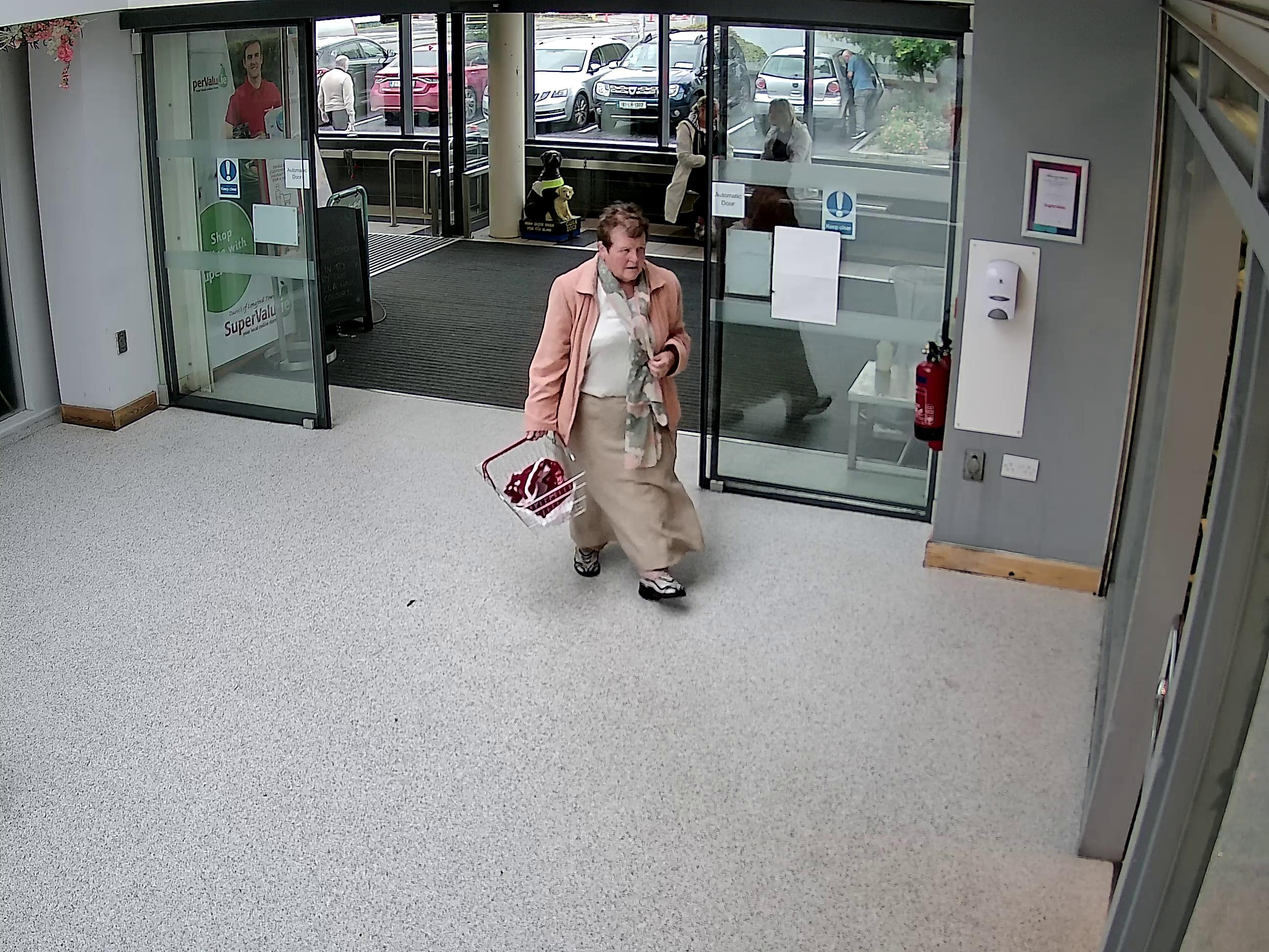empty-basket: (472, 424, 587, 533)
empty-shopping-bags: (507, 455, 575, 526)
person with carrying item-s- and shopping bag-s-: (524, 203, 704, 600)
person-with-basket-trolly-and-shopping-bag: (472, 202, 704, 600)
